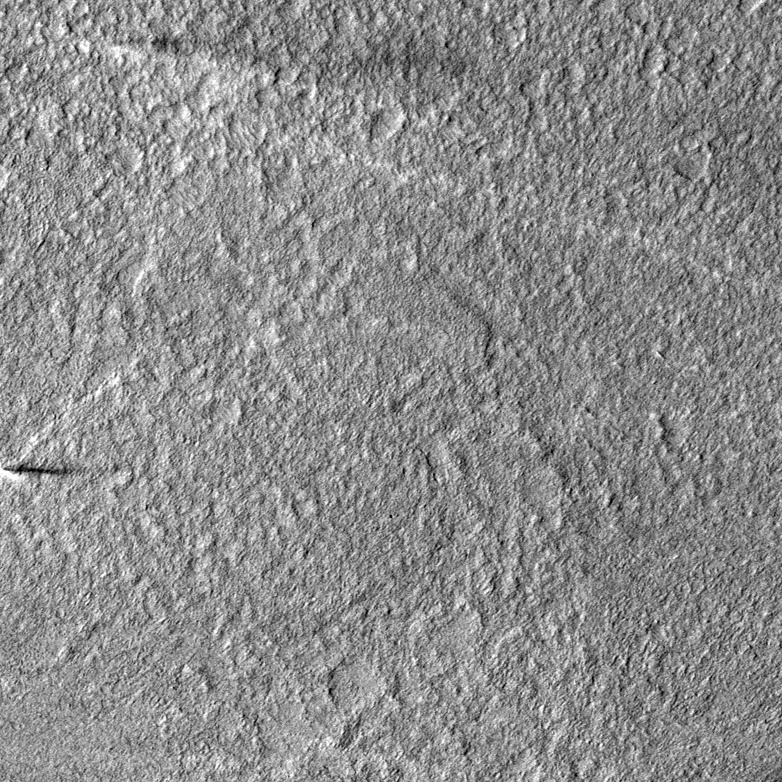dust_devil: (108, 33, 460, 104), (1, 463, 73, 486)
